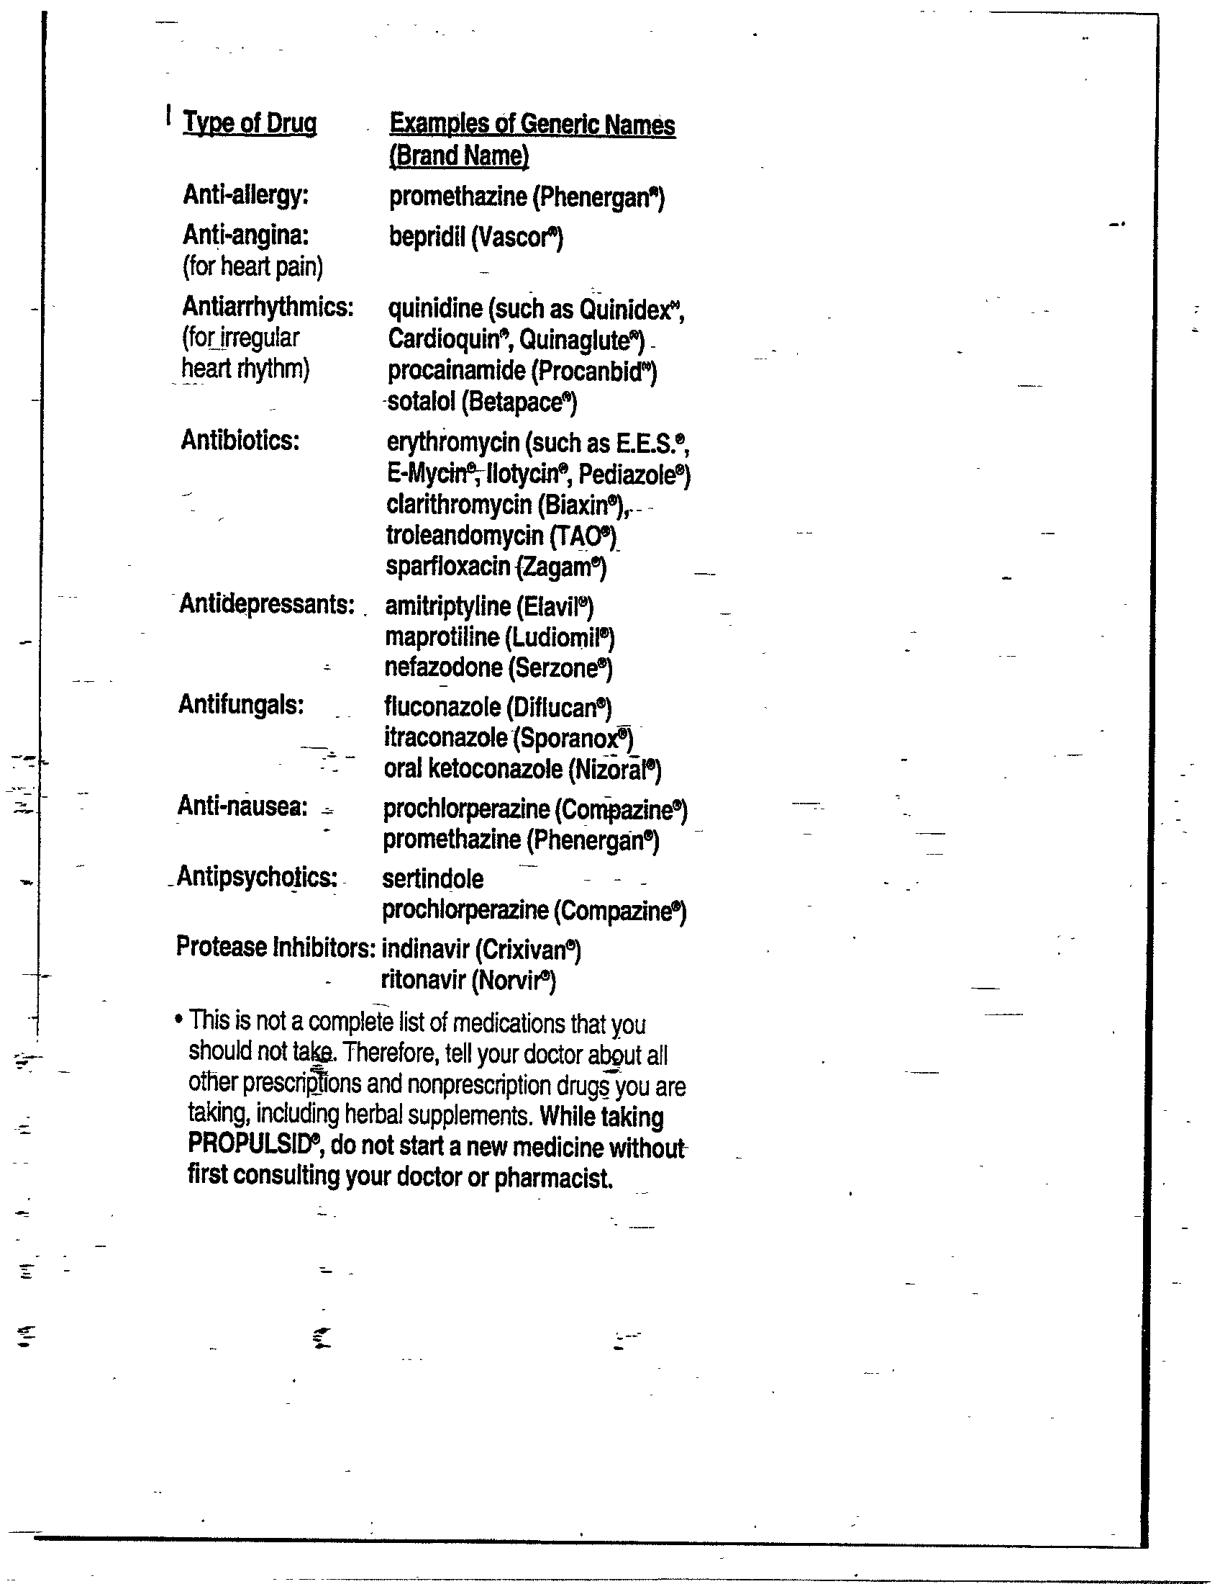nolines: (171, 108, 694, 996)
